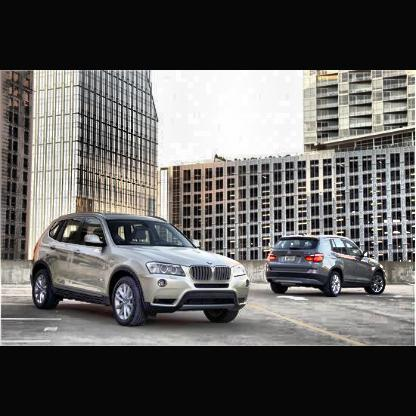BMW X3 SUV 2012: (31, 212, 252, 328)
